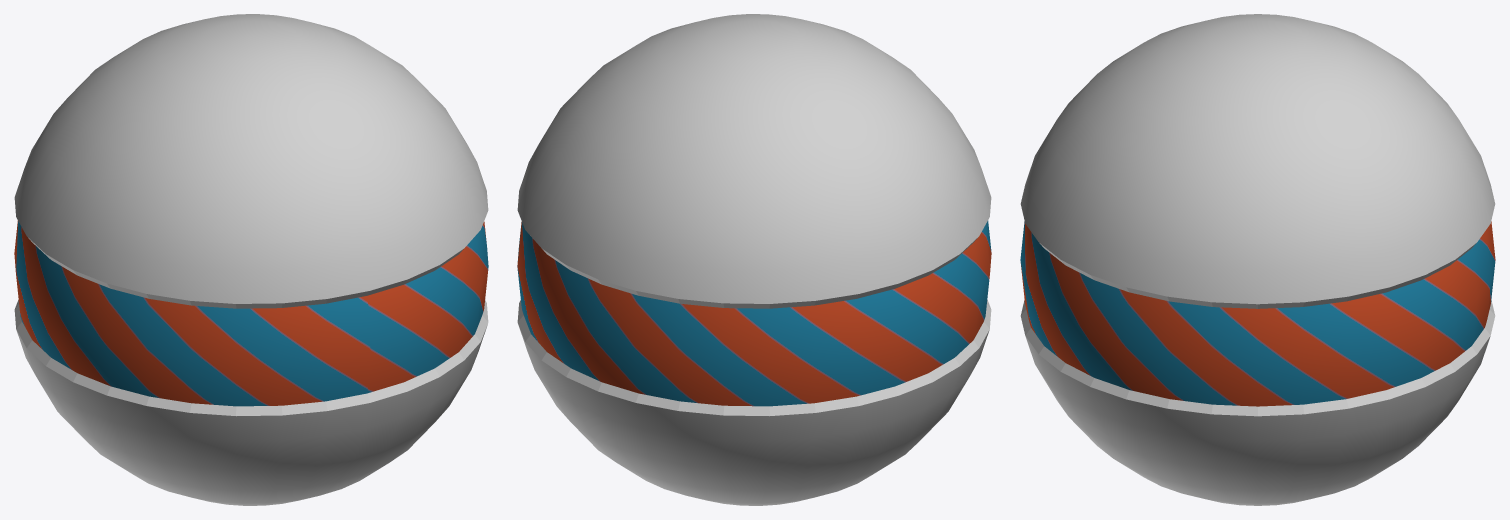
Rendered from SKY_Sphere_move.FBX.
The picture shows the model from 3 angles, left to right: view 1: azimuth 30°, elevation 25°; view 2: azimuth 150°, elevation 25°; view 3: azimuth 270°, elevation 25°; orthographic projection.
Visible parts, largest first — view 1: SKY_Sphere_move, RotateMesh; view 2: SKY_Sphere_move, RotateMesh; view 3: SKY_Sphere_move, RotateMesh.
Part boxes in pixels (x1,y1,x2,y2): SKY_Sphere_move: [14, 14, 488, 505]; RotateMesh: [14, 220, 488, 406]; SKY_Sphere_move: [517, 14, 991, 505]; RotateMesh: [517, 220, 991, 406]; SKY_Sphere_move: [1020, 14, 1495, 505]; RotateMesh: [1020, 221, 1495, 406].
Bounding box in the file's own units: 62.26 × 64.54 × 62.26.
